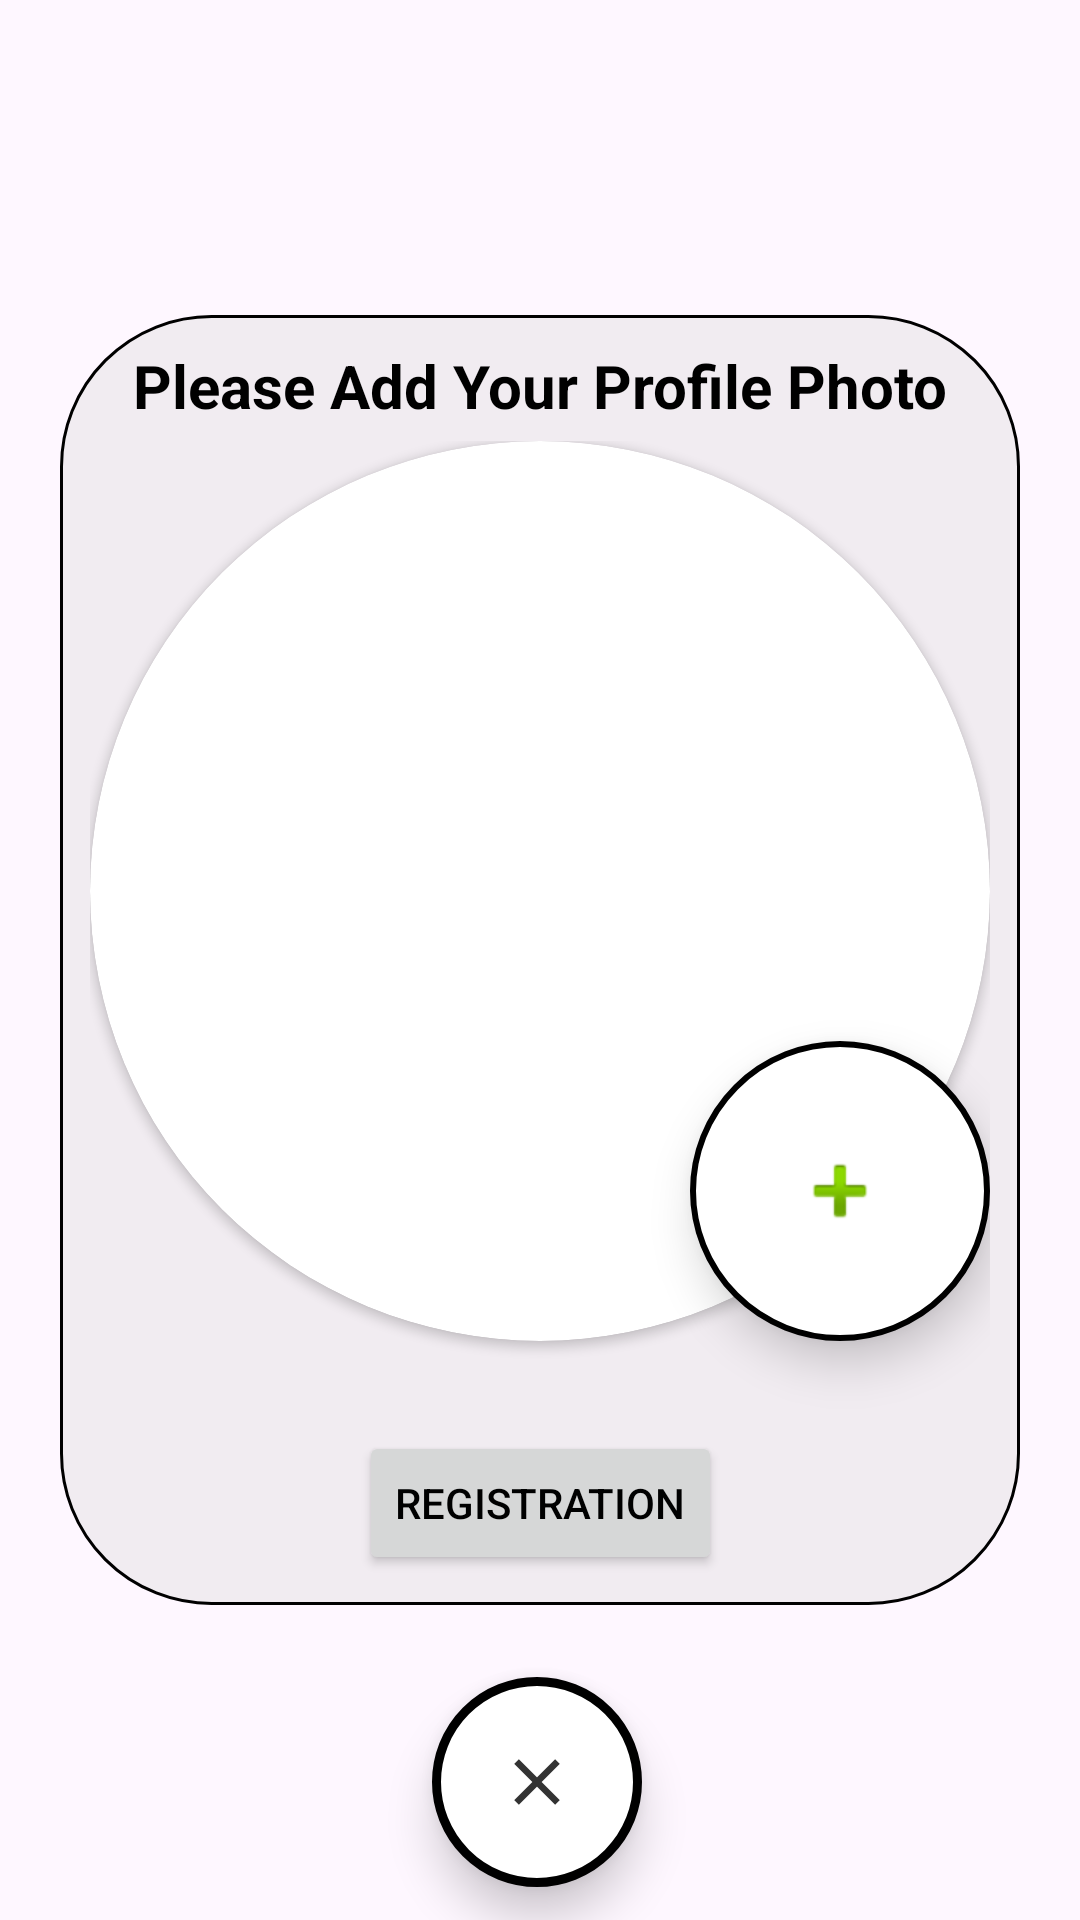

Icon bounding boxes for this 1080 × 1920 phone screenshot, format BBox(x1, y1, x2, y2):
add: BBox(690, 1041, 990, 1341)
close: BBox(432, 1677, 642, 1887)
